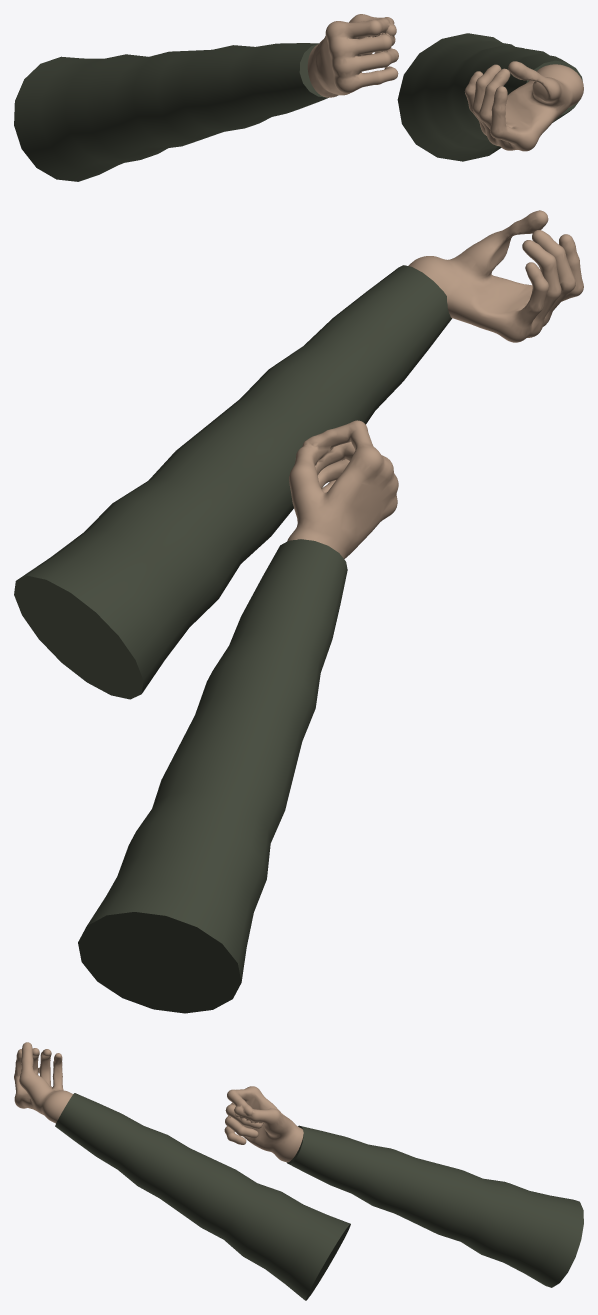
Rendered from viewmodel-hands.glb.
3 views of the same model, one above another, from view 1: azimuth 30°, elevation 25°; view 2: azimuth 150°, elevation 25°; view 3: azimuth 270°, elevation 25° (orthographic). The views are drawn at different scales.
Visible parts, largest first — view 1: view-sleeve-r, view-sleeve-l, hand-l, hand-r; view 2: view-sleeve-l, view-sleeve-r, hand-l, hand-r; view 3: view-sleeve-r, view-sleeve-l, hand-r, hand-l.
Part boxes in pixels (left/top/right/bottom): view-sleeve-r: left=14, top=43, right=328, bottom=181; view-sleeve-l: left=397, top=33, right=582, bottom=161; hand-l: left=464, top=61, right=583, bottom=151; hand-r: left=307, top=14, right=398, bottom=97; view-sleeve-l: left=14, top=265, right=452, bottom=699; view-sleeve-r: left=78, top=539, right=347, bottom=1013; hand-l: left=408, top=210, right=583, bottom=342; hand-r: left=287, top=420, right=398, bottom=559; view-sleeve-r: left=286, top=1125, right=583, bottom=1287; view-sleeve-l: left=55, top=1093, right=350, bottom=1300; hand-r: left=224, top=1086, right=303, bottom=1162; hand-l: left=14, top=1042, right=73, bottom=1123.
Size of the model in its own units: 0.4498 by 0.4538 by 0.8975.
